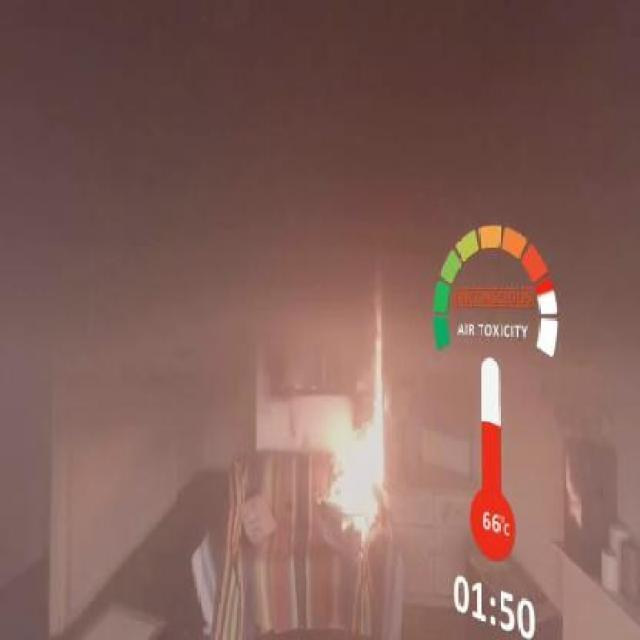smoke: (89, 146, 488, 466)
